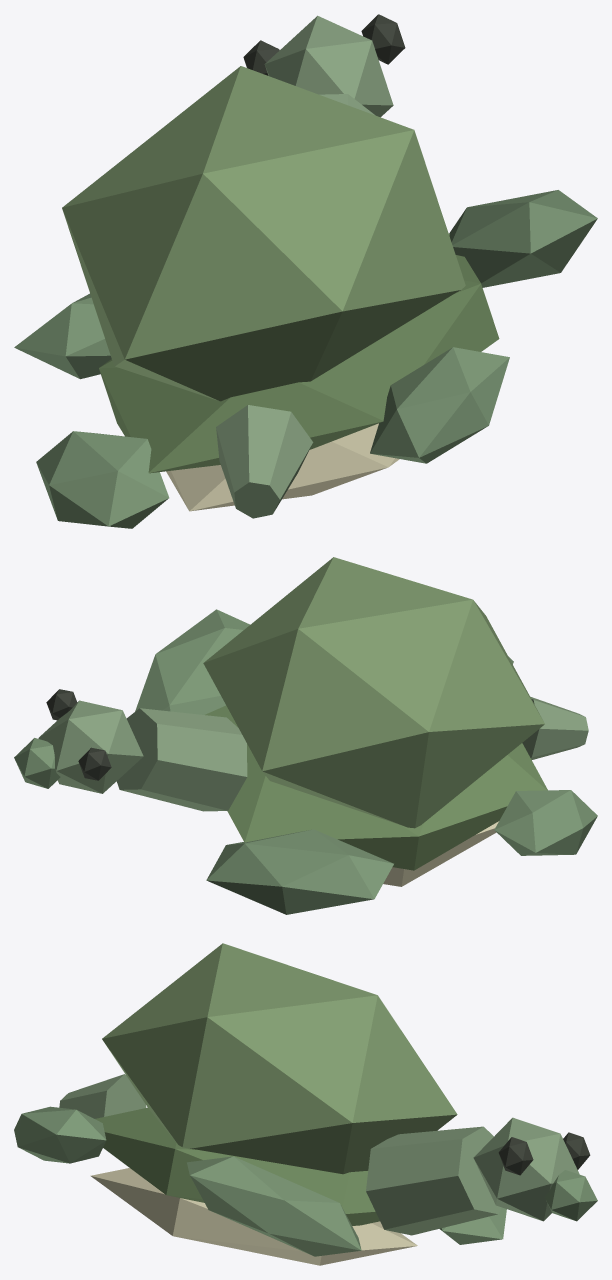
3 renders of one model, top to bottom at view 1: azimuth 30°, elevation 25°; view 2: azimuth 150°, elevation 25°; view 3: azimuth 270°, elevation 25°, orthographic. The views are drawn at different scales.
Visible parts, largest first — view 1: part0, part1, part10, part8, part11, part12, part4, part2, part9, part6, part7; view 2: part0, part1, part9, part3, part8, part4, part11, part12, part5, part2, part7, part6; view 3: part0, part3, part8, part1, part2, part4, part10, part12, part5, part9, part6, part7.
Part boxes in pixels (x1,y1,x2,y2): part0: [62, 66, 465, 401]; part1: [99, 233, 499, 473]; part10: [370, 347, 509, 463]; part8: [449, 190, 597, 287]; part11: [36, 431, 169, 528]; part12: [216, 405, 313, 518]; part4: [264, 15, 393, 117]; part2: [166, 423, 399, 511]; part9: [14, 293, 111, 379]; part6: [361, 14, 405, 64]; part7: [243, 40, 279, 75]; part0: [203, 557, 544, 828]; part1: [205, 705, 547, 870]; part9: [206, 829, 393, 914]; part3: [116, 708, 247, 811]; part8: [135, 609, 249, 714]; part4: [38, 700, 143, 793]; part11: [494, 790, 597, 855]; part12: [522, 696, 588, 759]; part5: [14, 738, 60, 788]; part2: [228, 813, 498, 886]; part7: [78, 747, 111, 780]; part6: [46, 689, 77, 720]; part0: [102, 943, 457, 1174]; part3: [366, 1126, 501, 1235]; part8: [187, 1156, 361, 1256]; part1: [95, 1107, 379, 1225]; part2: [90, 1168, 417, 1265]; part4: [473, 1117, 579, 1221]; part10: [14, 1106, 106, 1163]; part12: [59, 1074, 146, 1118]; part5: [544, 1170, 597, 1221]; part9: [439, 1207, 506, 1244]; part6: [498, 1137, 533, 1175]; part7: [563, 1132, 590, 1169].
Size of the model in its own units: 9.53 by 5.76 by 11.26.
